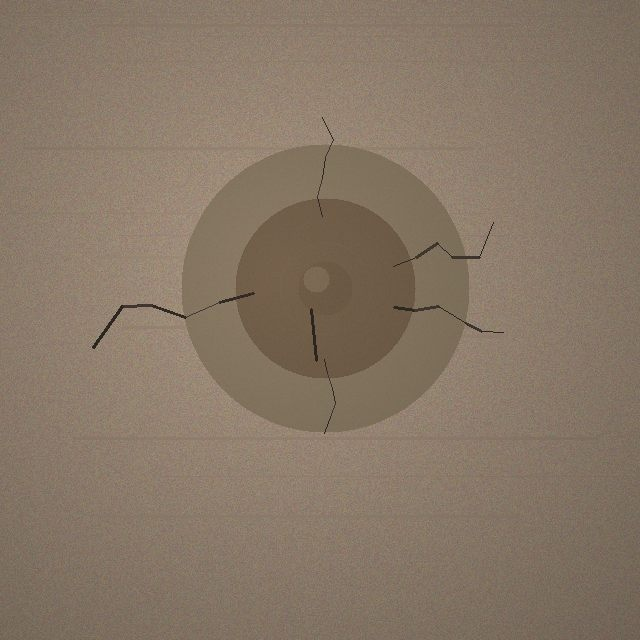crack: (181, 144, 469, 432)
